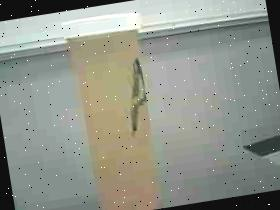Bottle A: (51, 2, 183, 210)
